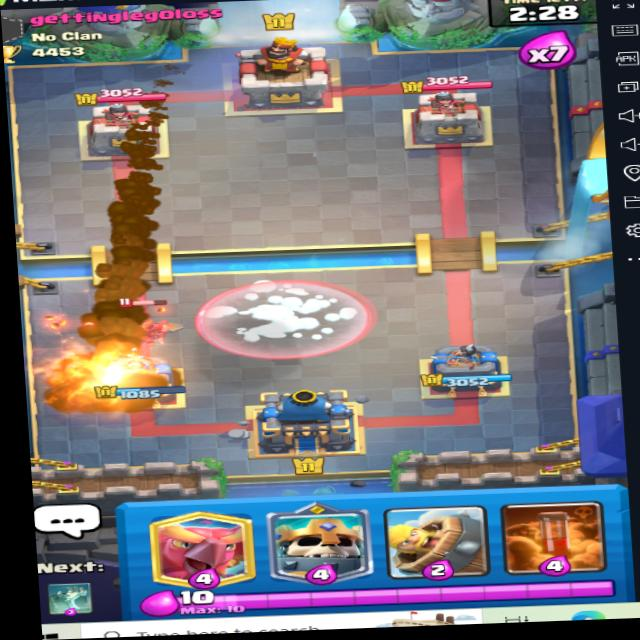freeze: (188, 267, 384, 364)
royal-recruits: (114, 294, 175, 352)
